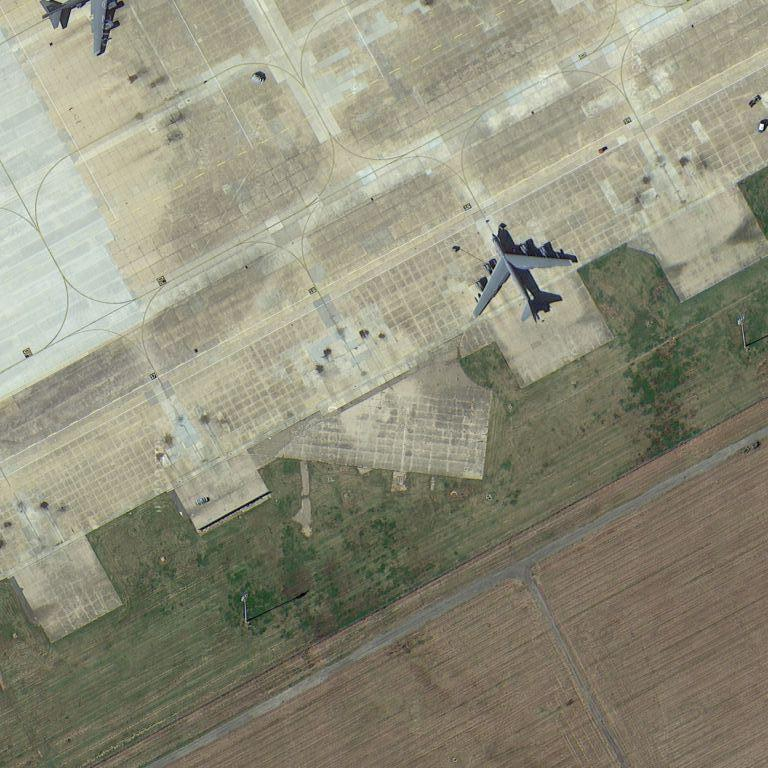B-52: (471, 233, 576, 332)
